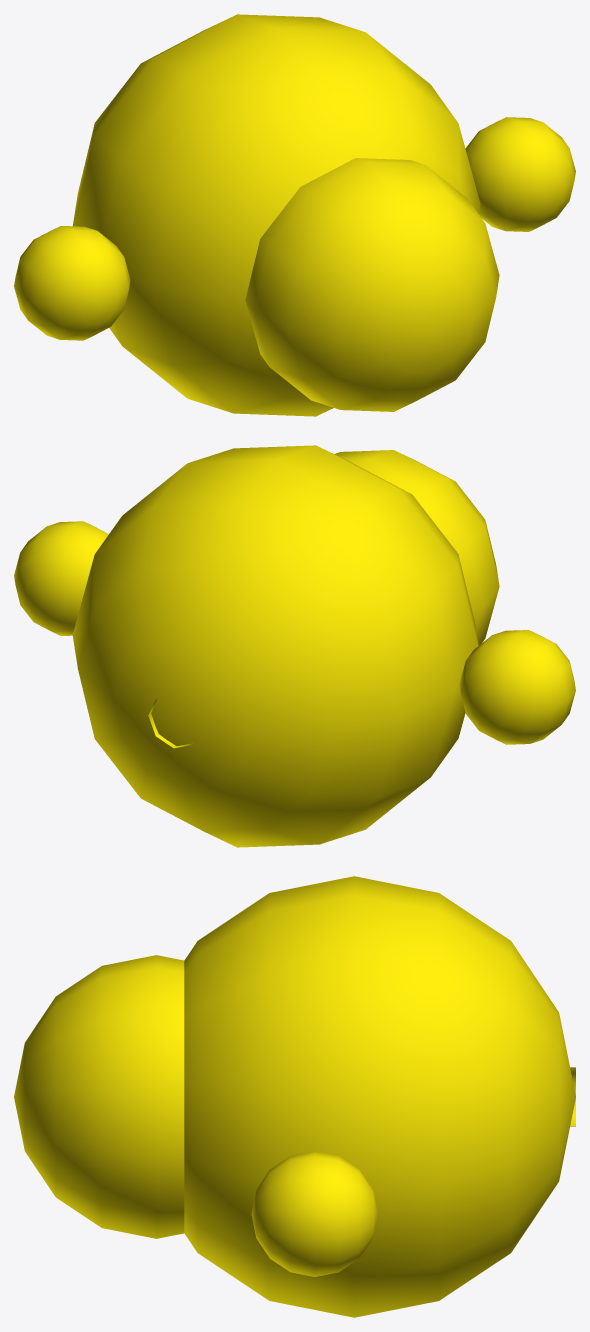
Rendered from v5_gold.glb.
3 renders of one model, top to bottom at view 1: azimuth 30°, elevation 25°; view 2: azimuth 150°, elevation 25°; view 3: azimuth 270°, elevation 25°, orthographic. The views are drawn at different scales.
Parts seen in each view (by area): view 1: Wedge-tailed Eagle; view 2: Wedge-tailed Eagle; view 3: Wedge-tailed Eagle.
Part boxes in pixels (x1,y1,x2,y2): Wedge-tailed Eagle: (14, 14, 575, 416); Wedge-tailed Eagle: (14, 445, 575, 847); Wedge-tailed Eagle: (14, 876, 575, 1317).
Bounding box in the file's own units: 1.16 × 0.756 × 0.9585.
